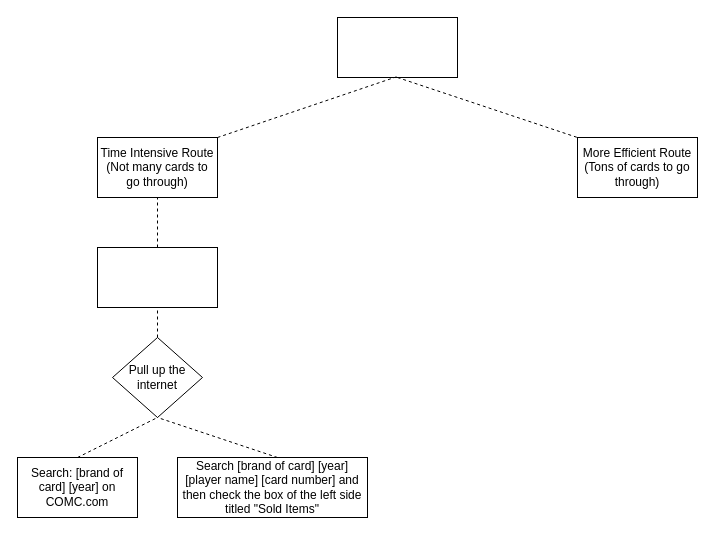
This 715x535 diagram has some shape labels left out. Here are the shapes that lost their labels. From the top down, the centre of each, then its label:
At point 397,47: "Box of Cards".
At point 157,277: "Start grouping similar style cards together".
